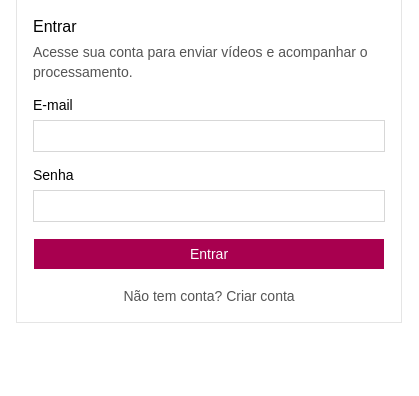
Test: LoginForm › mostra erros de validação ao submeter vazio
Click the button "Entrar". click: (209, 254)
box: 33,238 -> 385,270
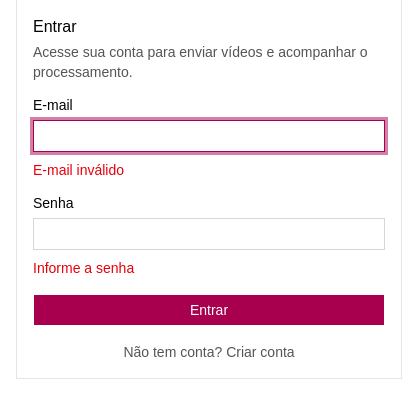
Result: the text "E-mail inválido" is shown at 33,162 -> 124,178
Result: the text "Informe a senha" is shown at 33,260 -> 134,276
